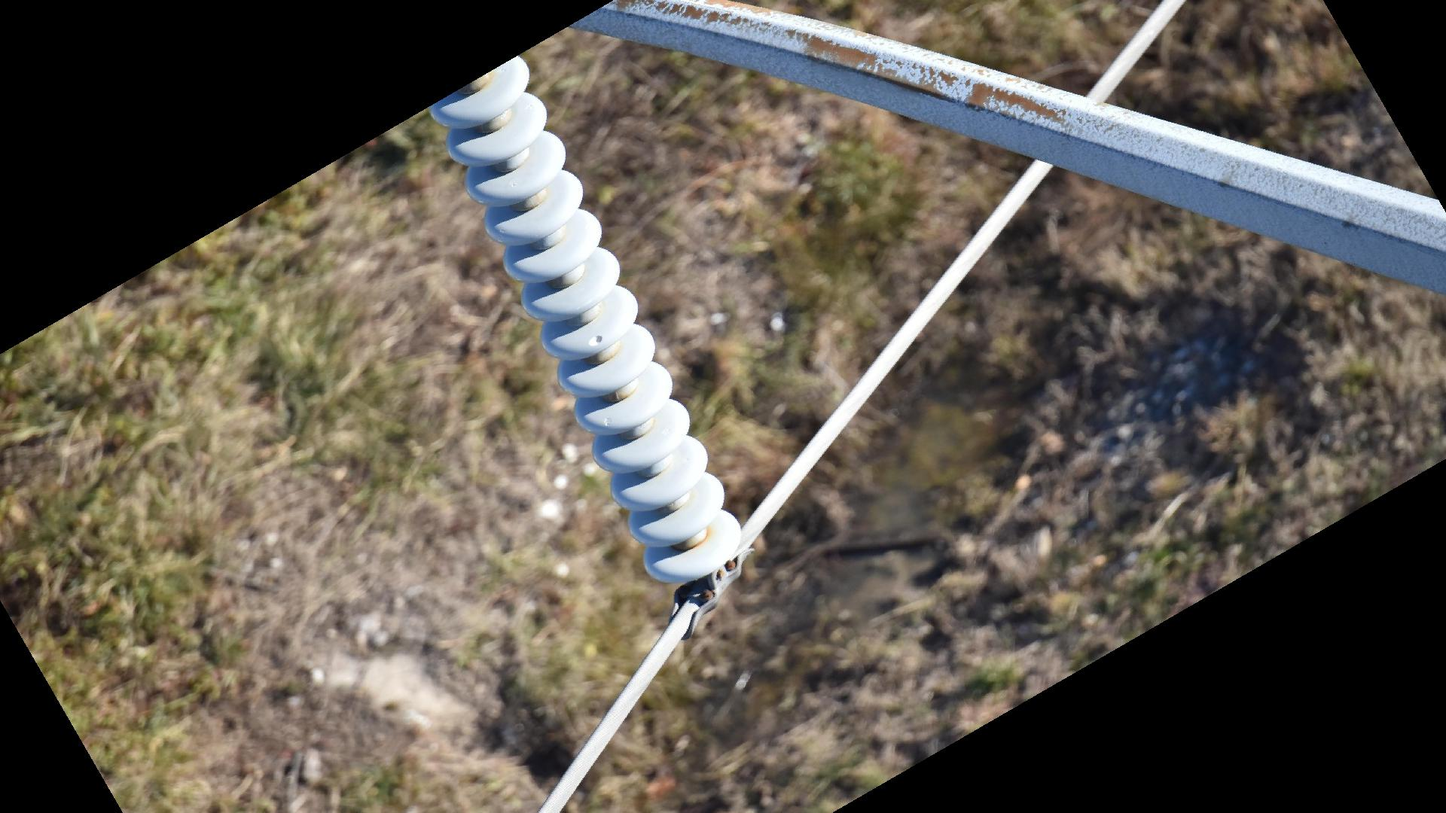insulator: (427, 50, 747, 590)
insulator_breakage: (584, 330, 609, 352)
